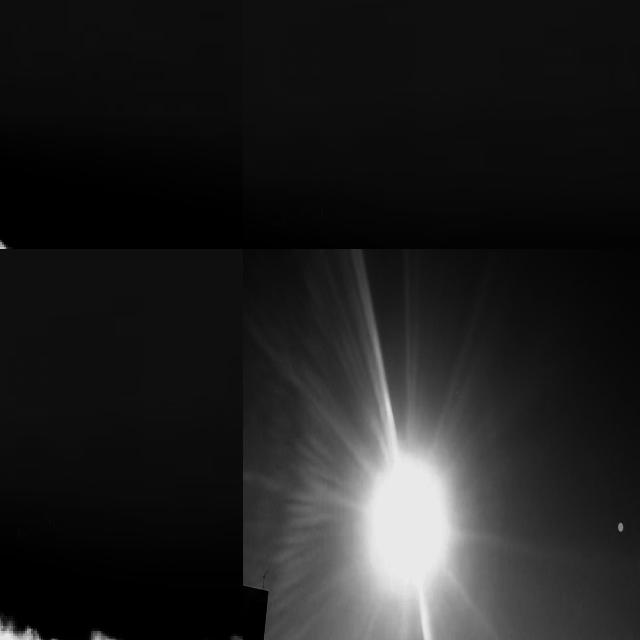0: (259, 214, 289, 244), (3, 521, 31, 551)
drone: (525, 632, 541, 640)
